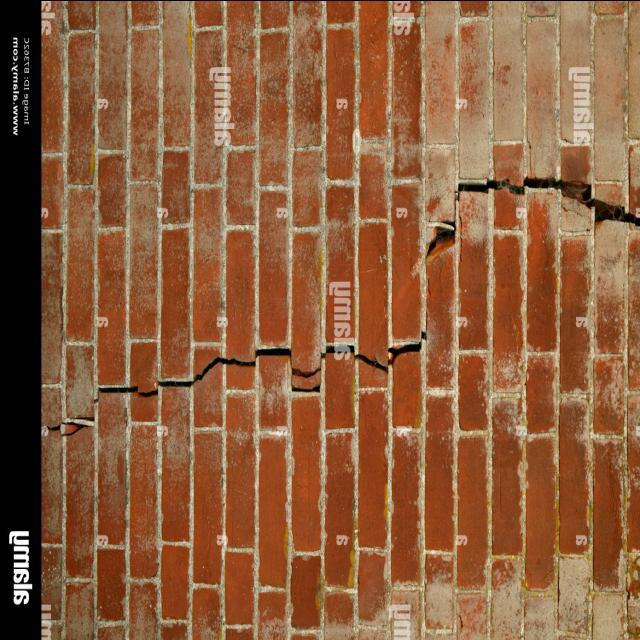Crack: (96, 331, 426, 396)
